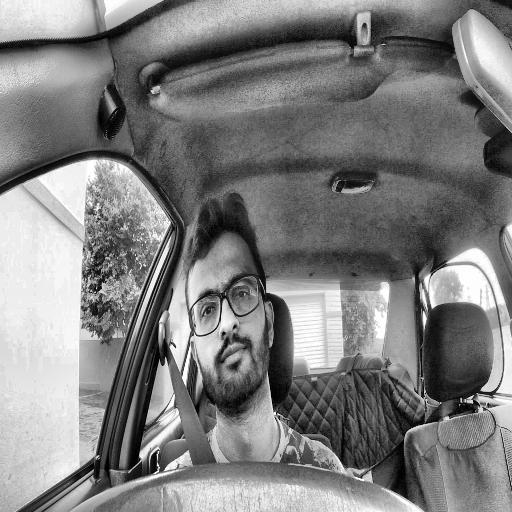awake: (185, 190, 274, 409)
